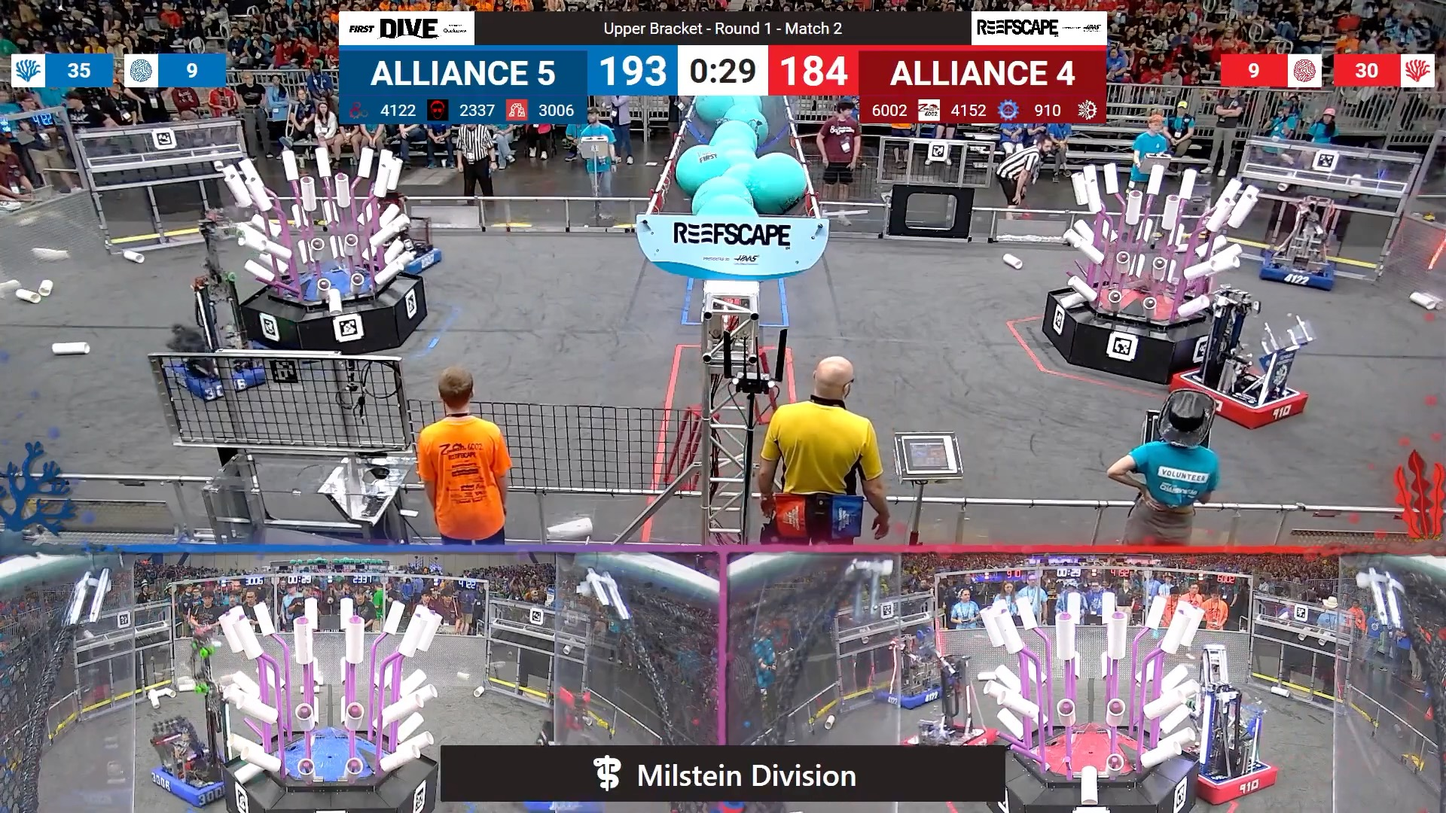bumpers: (1166, 370, 1313, 433), (156, 347, 282, 401), (1171, 752, 1283, 805), (145, 756, 249, 808), (1248, 252, 1347, 294), (373, 242, 450, 276), (874, 680, 953, 712), (903, 722, 999, 748)
